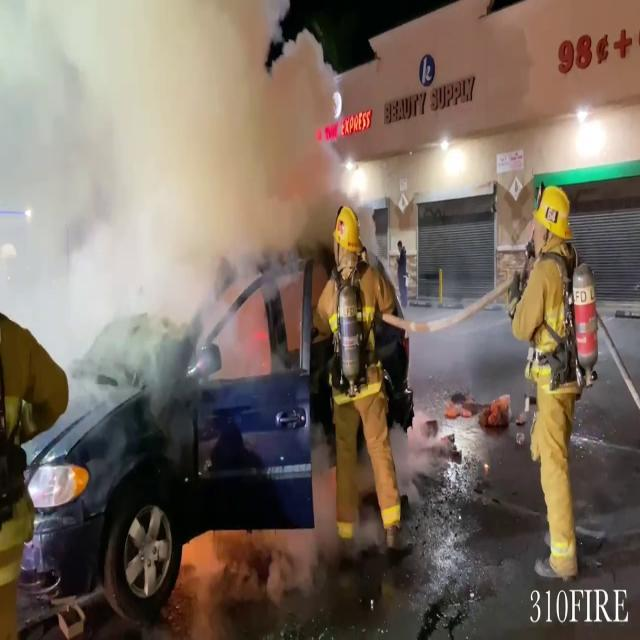Smoke: (1, 0, 356, 368)
